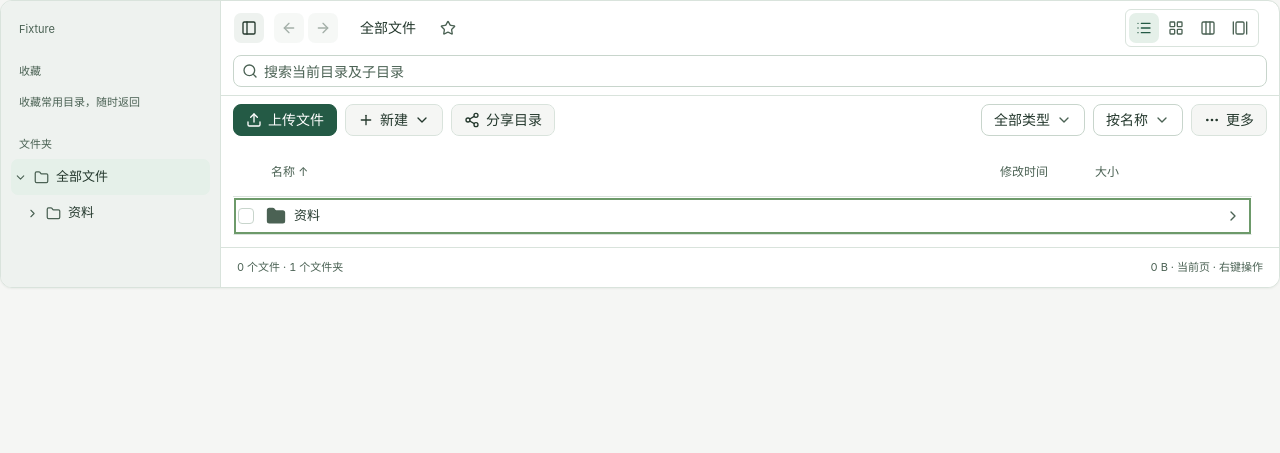
it: keeps layout and view usable when optional localStorage is unavailable
Expected: the button named "打开文件夹 资料" is shown, [1219,202,1247,230]
What coordinates should you click on to do the following:
click the button named "折叠目录树"
I would click on:
 (249, 28)
Its box is [233,12,265,44].
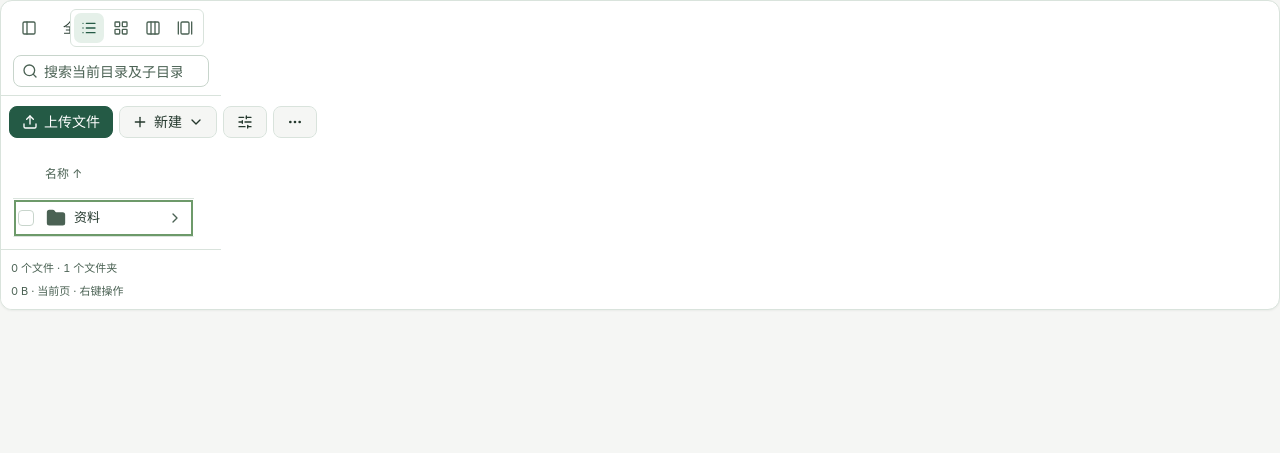
Expected: the element "目录树" is gone
What coordinates should you click on to do the following:
click the button named "网格视图"
I would click on:
 (121, 28)
Its box is [105,12,137,44].
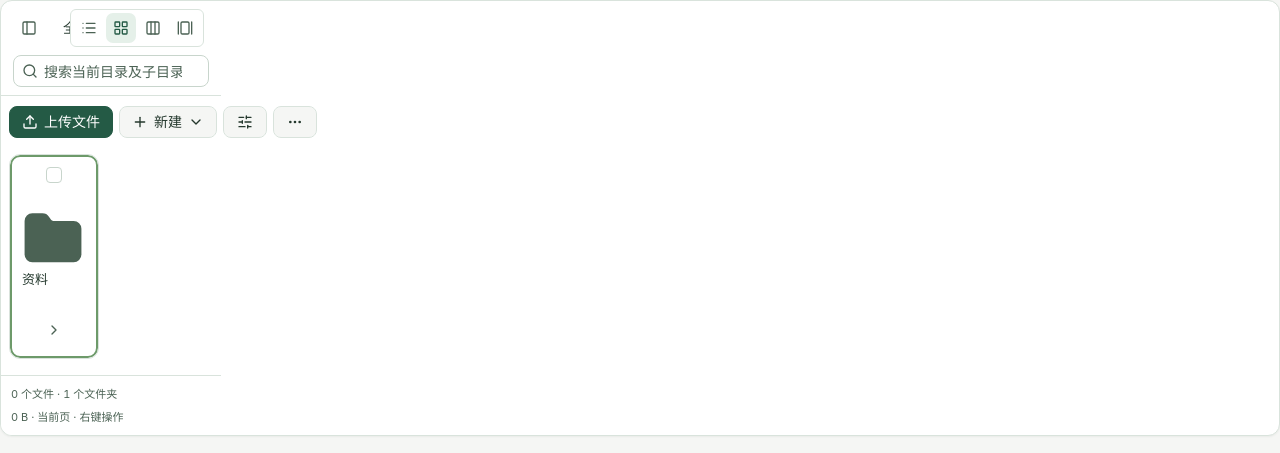
Expected: the button named "网格视图" is pressed, [105,12,137,44]
What coordinates should you click on to do the following:
click the button named "展开目录树"
I would click on:
 (29, 28)
Its box is [13,12,45,44].
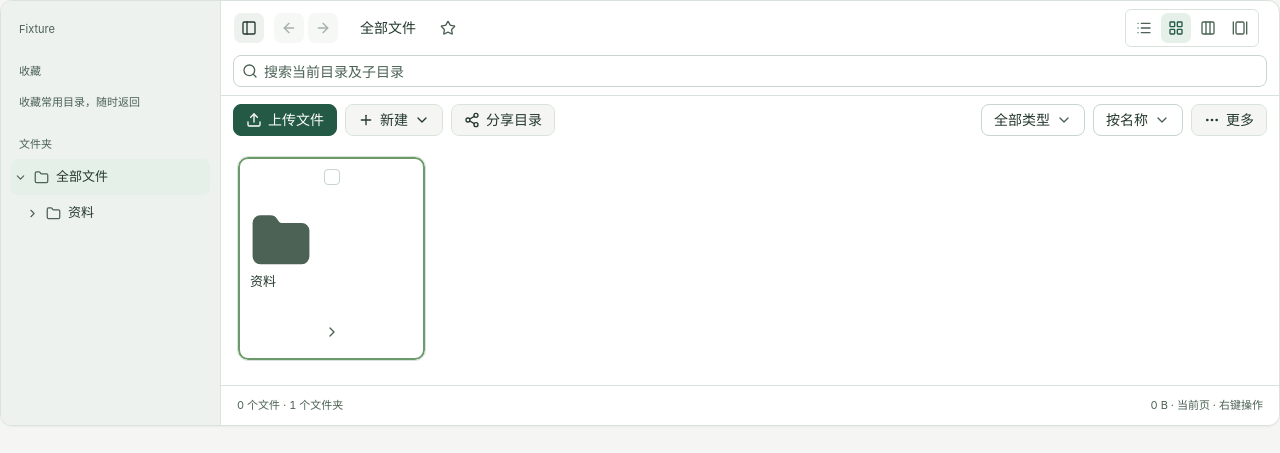
Expected: the element named "目录树" is shown, [1,1,221,424]
